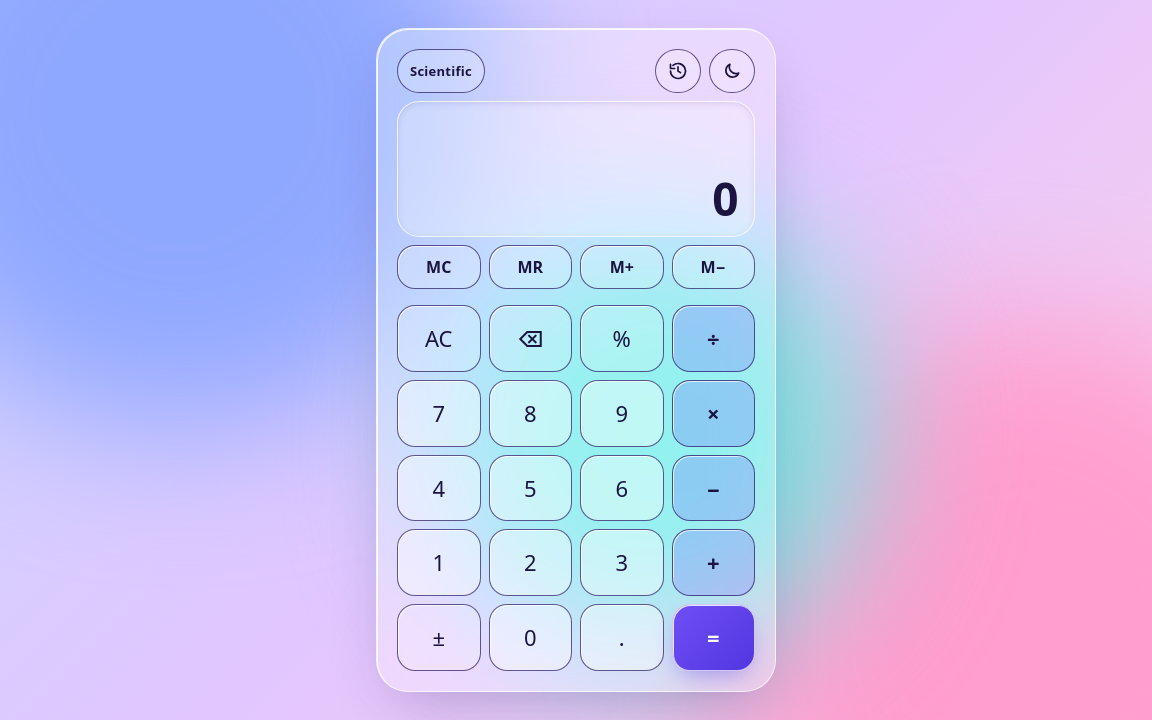
Test case: history (E7-S1 to E7-S4, E6-S3) › inserts a result into the current expression
The image size is (1152, 720).
Type keys "2*3={Escape}10-3={Escape}"
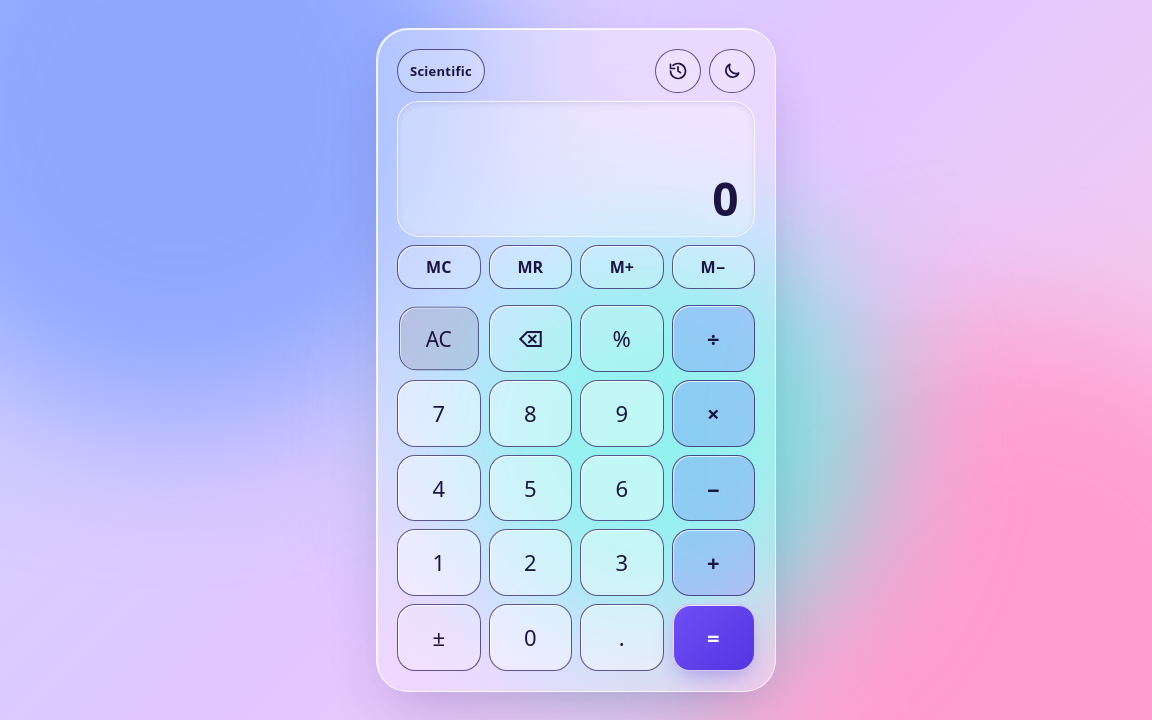
Click the button named "History": (678, 71) [655, 49, 701, 93]
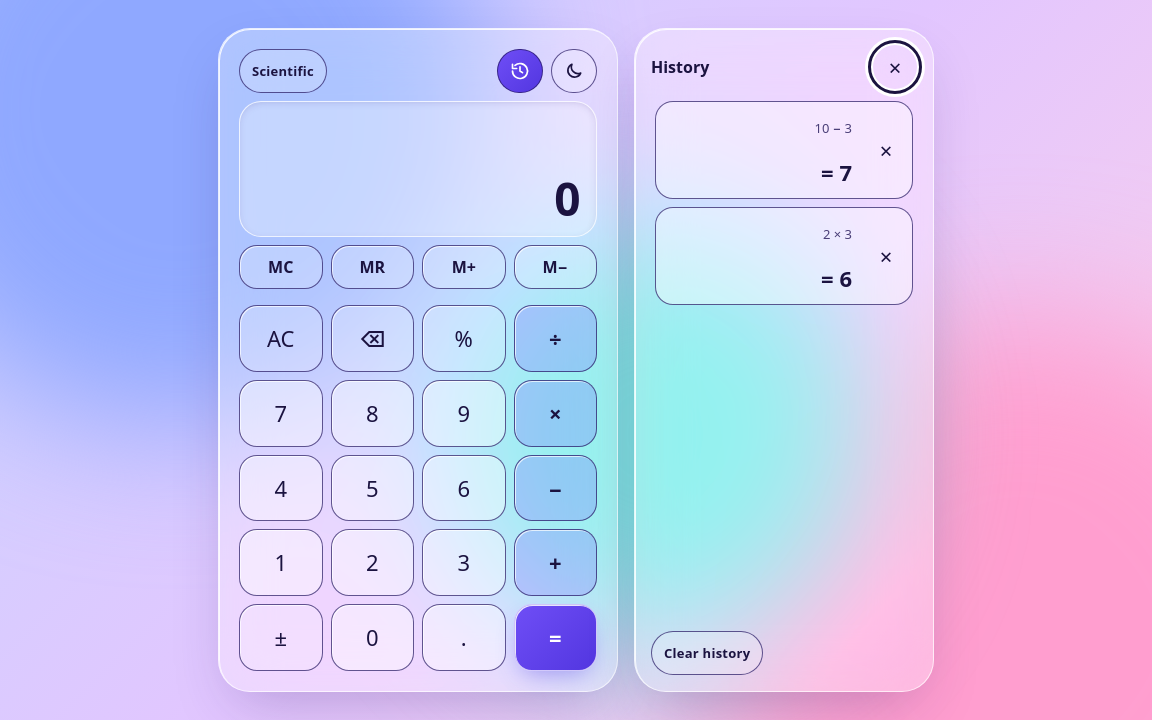
Type keys "5+"
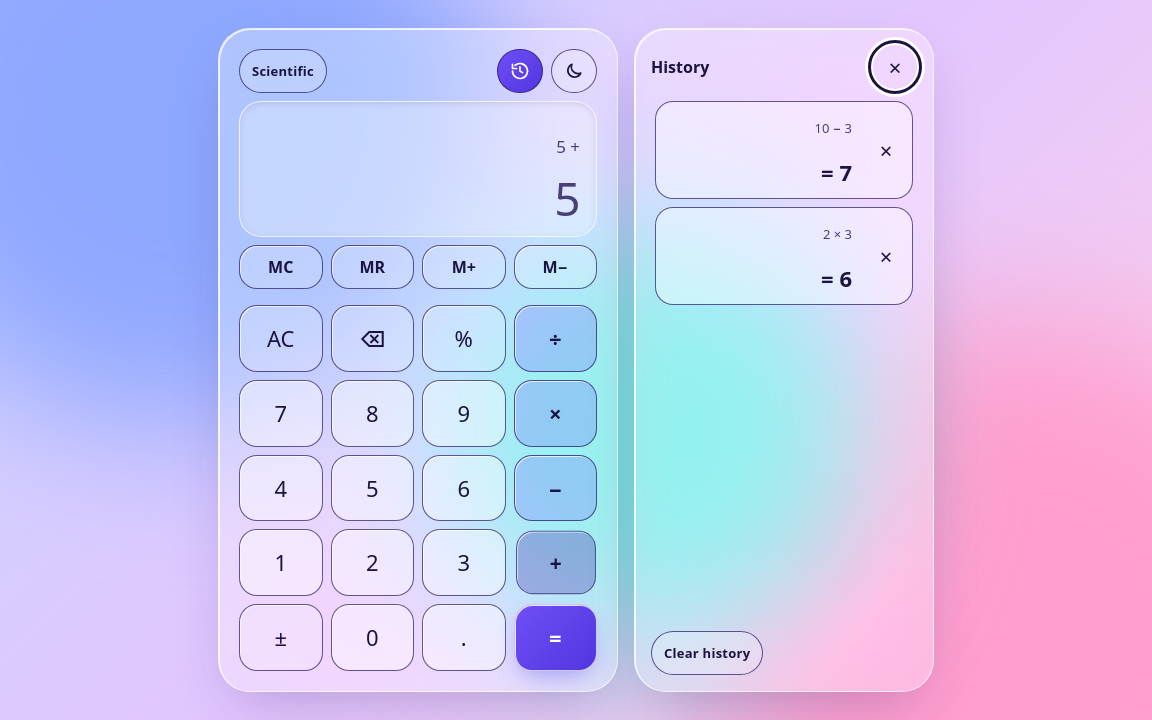
Click the button named "Use result: 6": (762, 278) [668, 256, 856, 300]
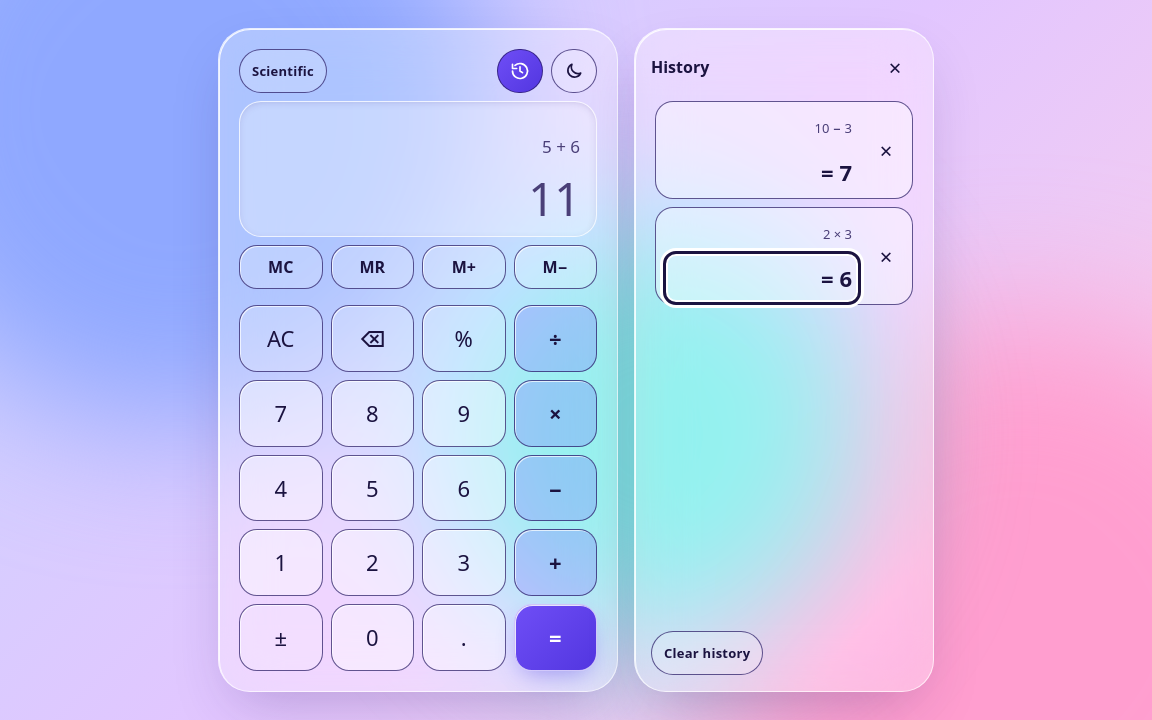
Now the text "5 + 6" is shown, box [542, 136, 580, 158]
